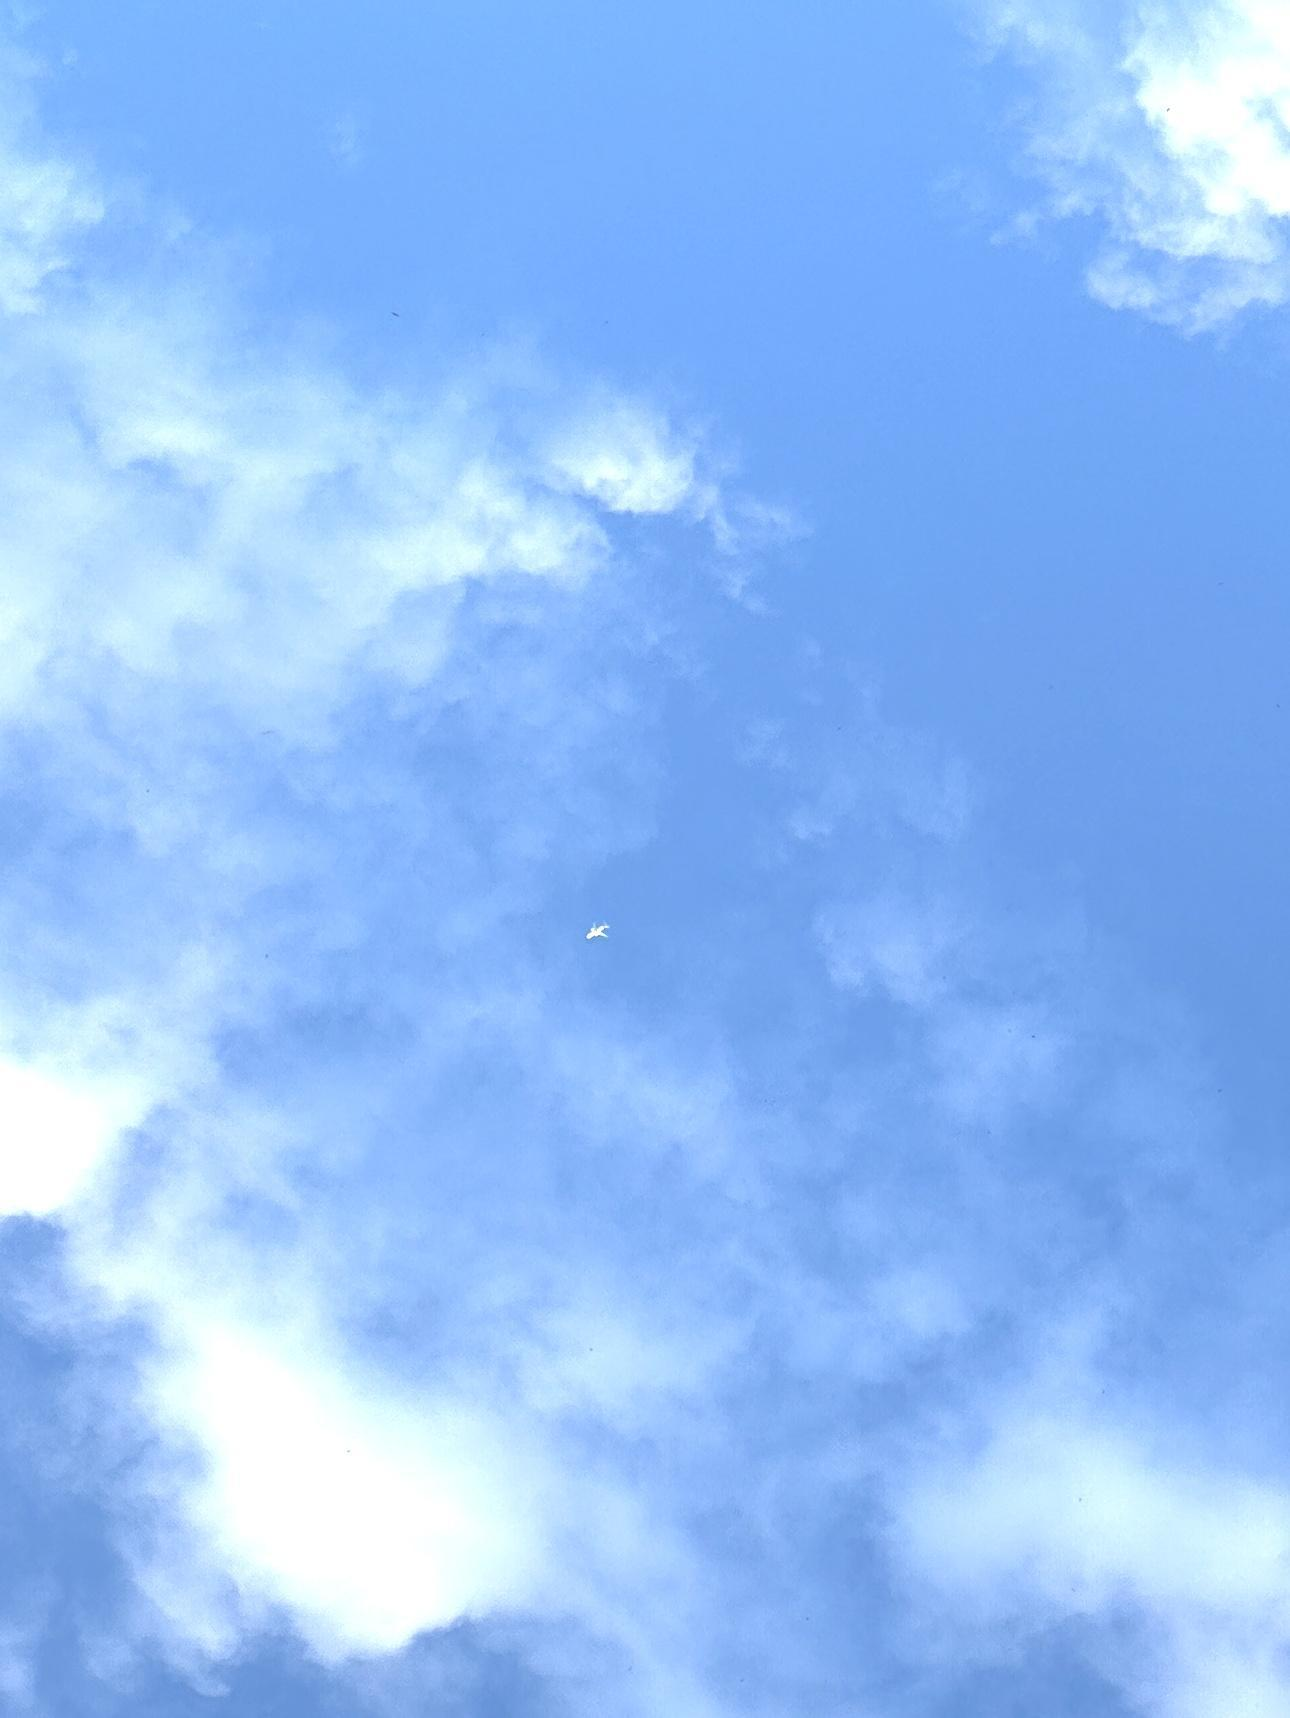Plane: (573, 909, 629, 957)
